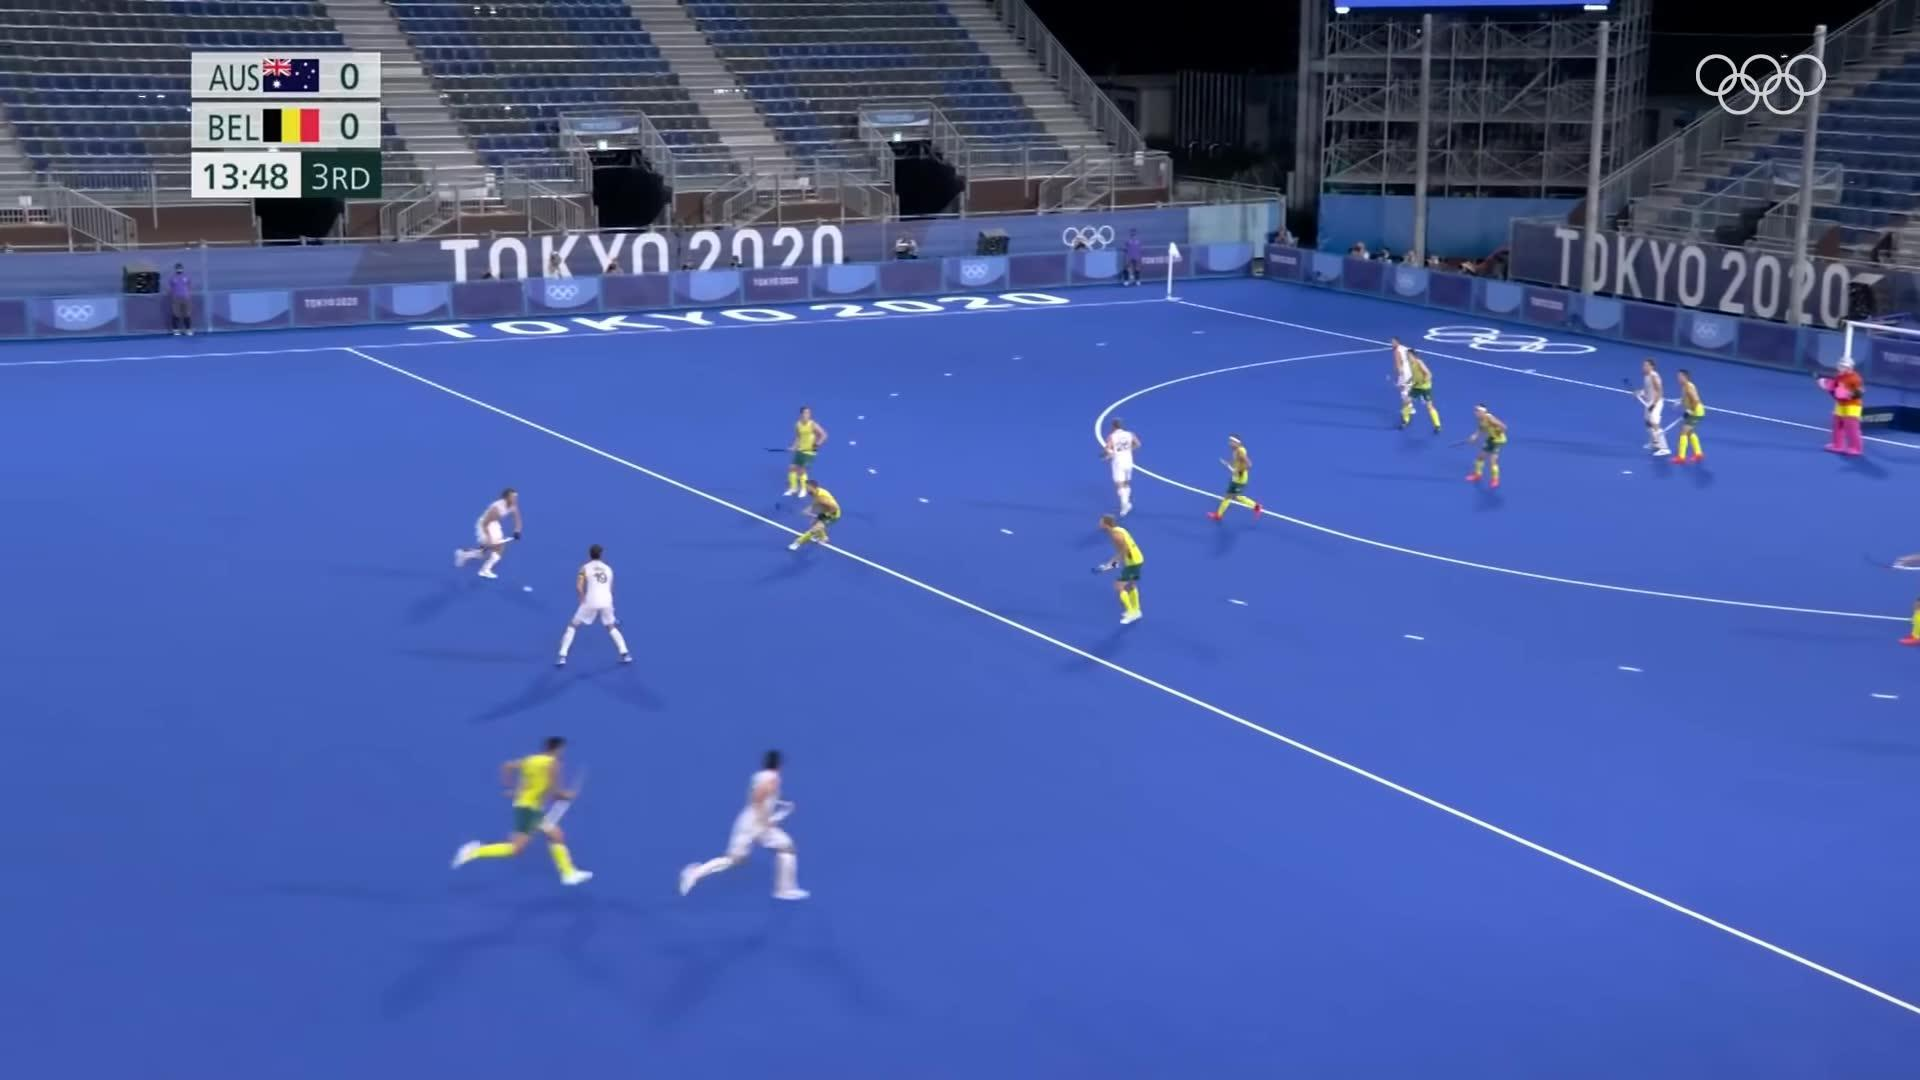ball: (519, 578, 537, 600)
